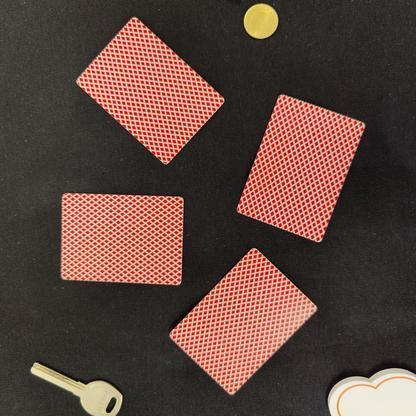card: (69, 7, 231, 174), (230, 82, 373, 247), (190, 243, 324, 406), (49, 182, 194, 298)
